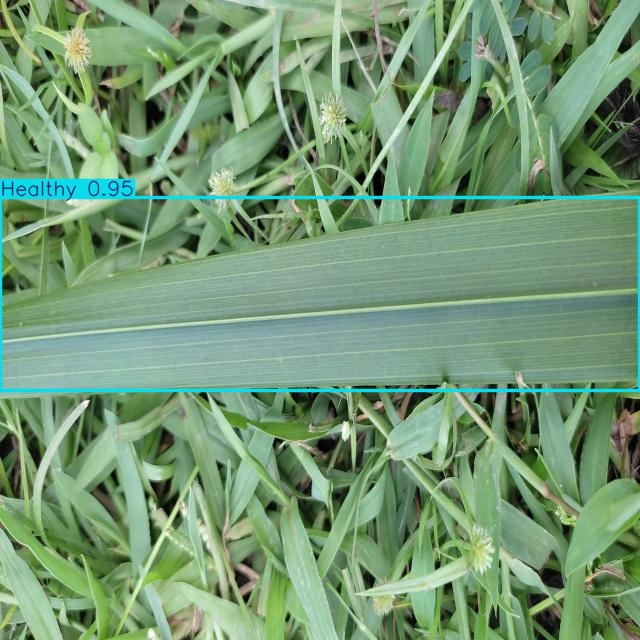Healthy: (0, 197, 639, 391)
